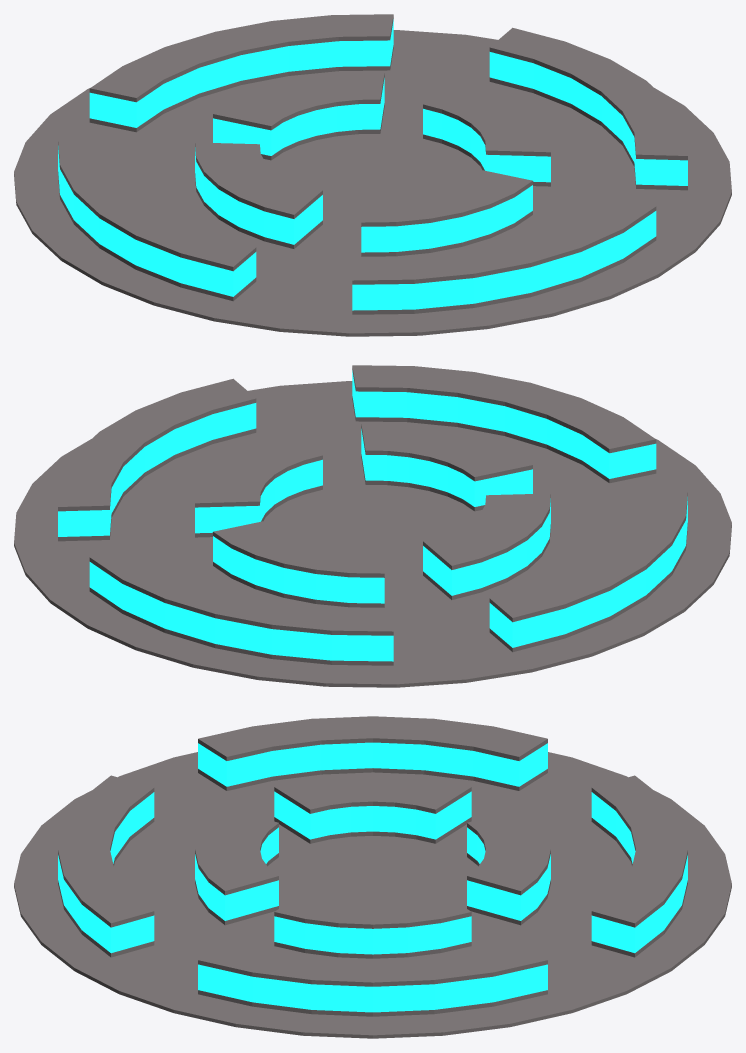
File: foodtable.fbx
3 renders of one model, top to bottom at view 1: azimuth 30°, elevation 25°; view 2: azimuth 150°, elevation 25°; view 3: azimuth 270°, elevation 25°, orthographic.
Parts seen in each view (by area): view 1: Cylinder; view 2: Cylinder; view 3: Cylinder.
Boxes of the visible parts, bbox=[...] form: Cylinder: bbox=[14, 14, 731, 336]; Cylinder: bbox=[14, 365, 731, 687]; Cylinder: bbox=[14, 716, 731, 1038].
Size of the model in its own units: 893 by 51.62 by 893.
